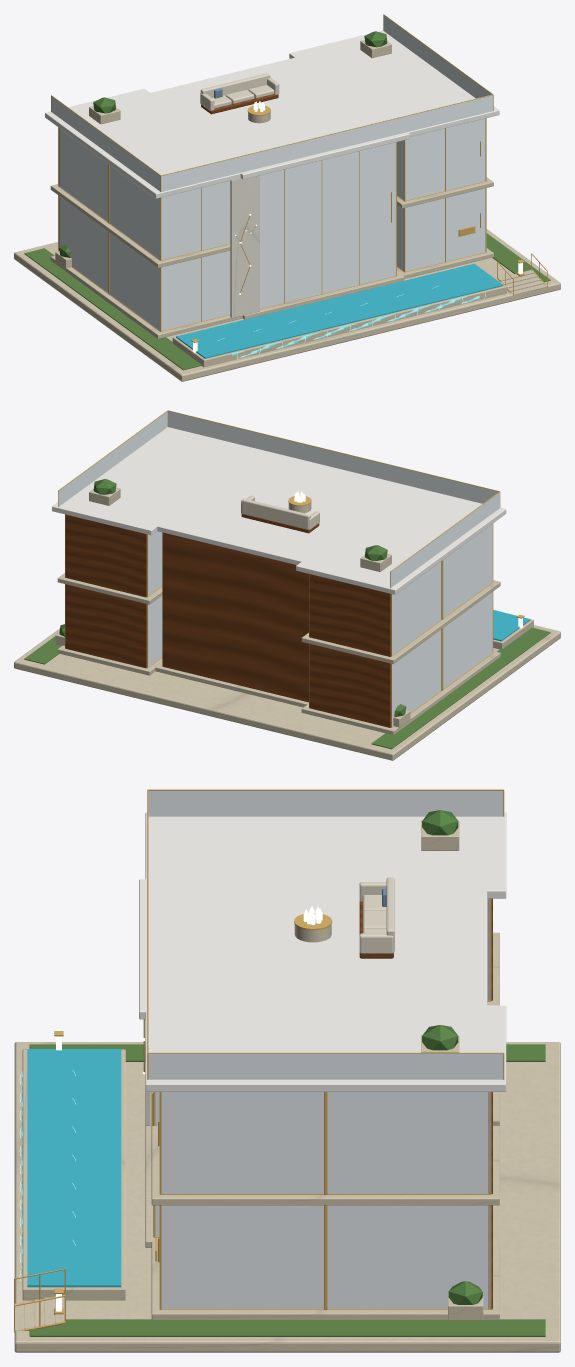
The model's file is House3.fbx.
3 renders of one model, top to bottom at view 1: azimuth 30°, elevation 25°; view 2: azimuth 150°, elevation 25°; view 3: azimuth 270°, elevation 25°, orthographic. The views are drawn at different scales.
Visible parts, largest first — view 1: House3, Base; view 2: House3, Base; view 3: House3, Base.
Boxes of the visible parts, x1,y1,x2,y2 form: House3: (24,14,550,370); Base: (14,229,560,381); House3: (24,410,550,749); Base: (14,625,560,760); House3: (14,789,545,1336); Base: (14,1042,560,1352).
Size of the model in its own units: 5600 by 2479 by 4305.
Materials: 17 (3 with a texture image).
